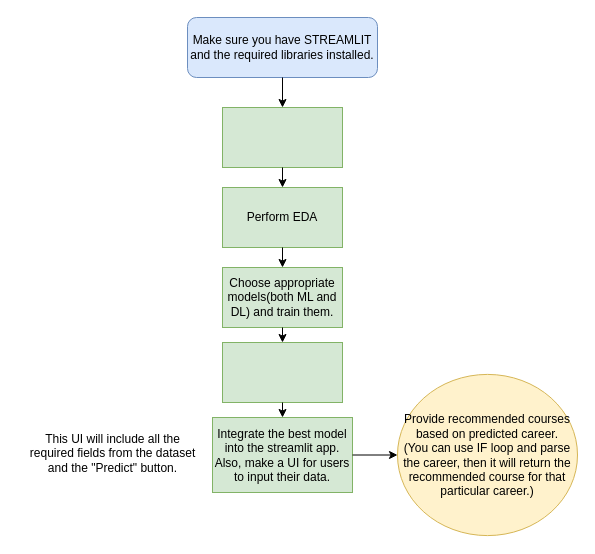
The diagram is 595 pixels wide and 554 high, and some of its shapes have lost their labels. The shapes that lost their labels are listed below. From the top down, each one's centre as x and y in pixels, then its label:
At point (282, 137): "Load and preprocess data.".
At point (282, 372): "Evaluate models using metrics.".
